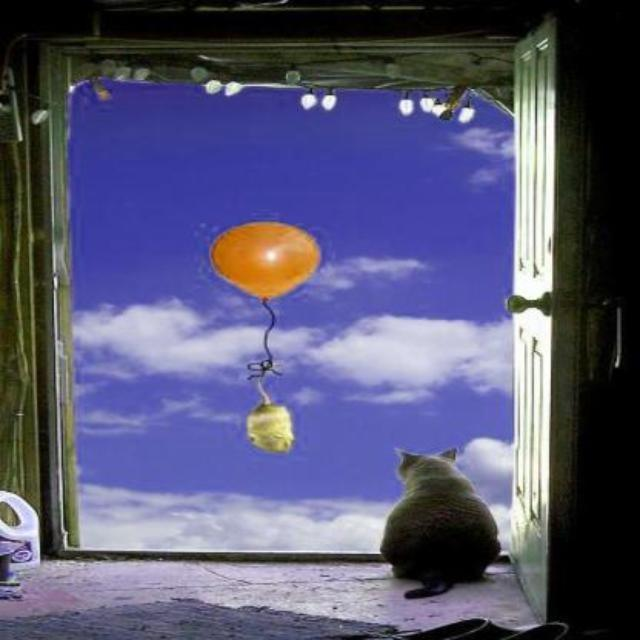door: (478, 11, 612, 634)
